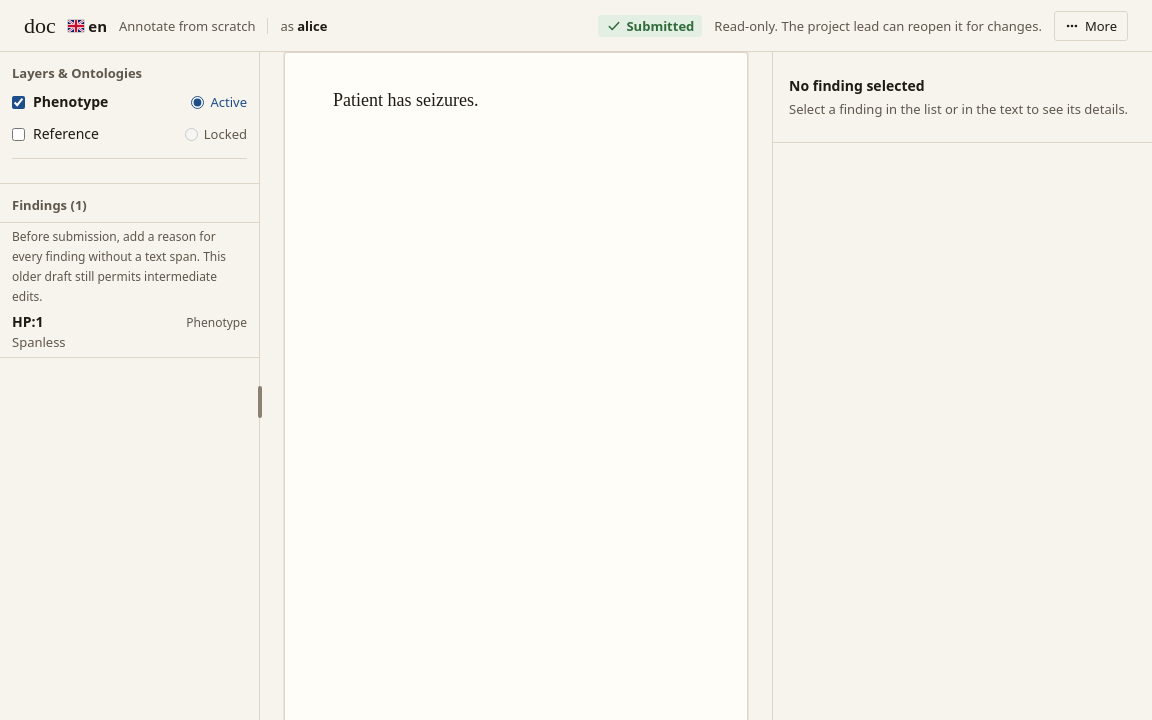
offers ontology search for inspection without allowing a submitted annotation to change
This screenshot has width=1152, height=720.
What coordinates should you click on to do the following:
click the button with class "doc-item"
I would click on:
 (130, 333)
Its box is [0,307,259,358].
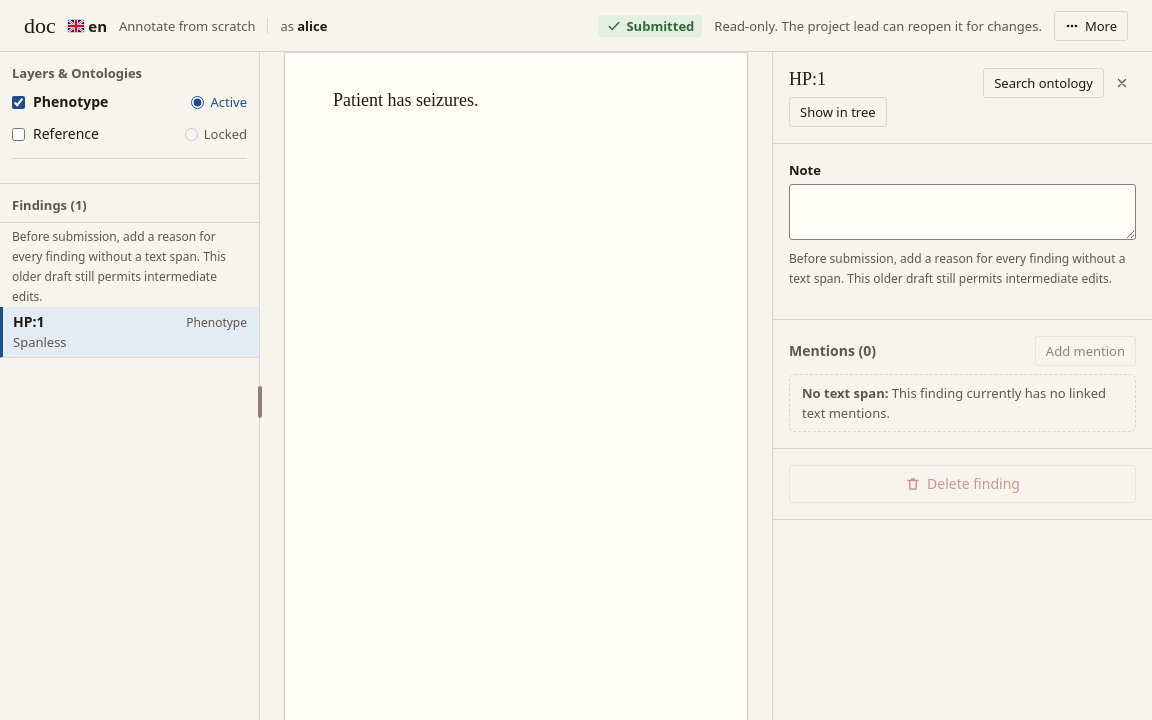
What coordinates should you click on to do the following:
click the button "Search ontology"
I would click on:
 (1044, 83)
Its box is [983,68,1104,98].
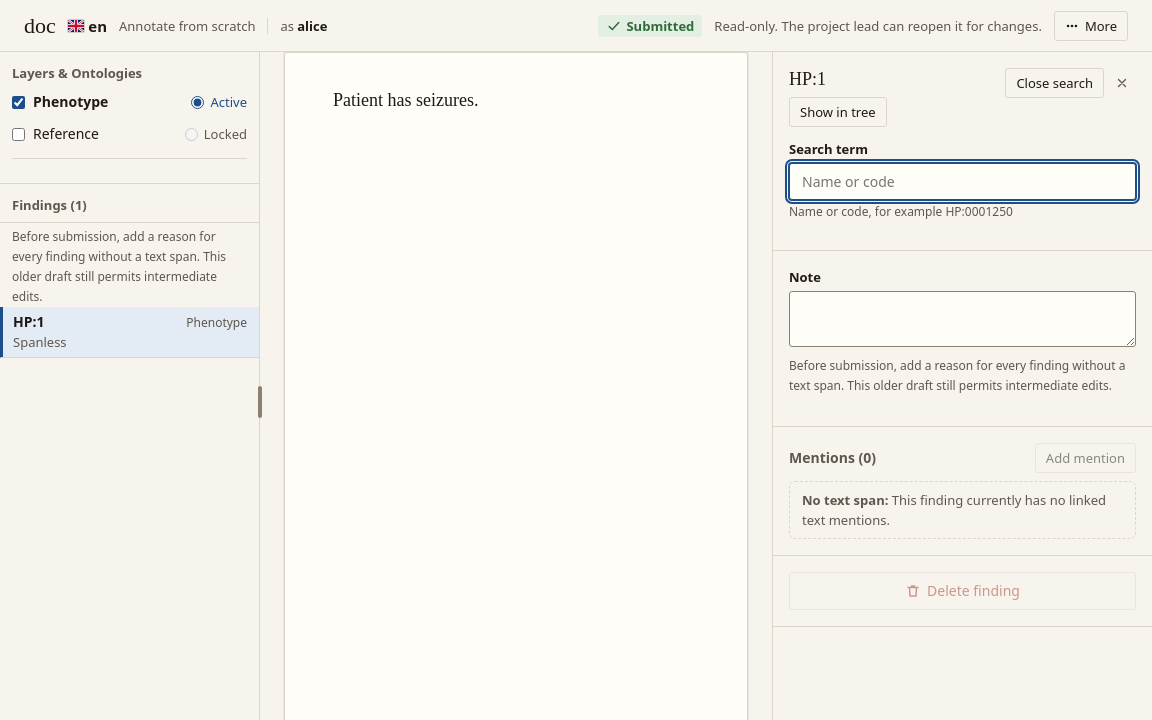
Check: the dropdown labelled "Search term" is shown, box [789,163,1136,200]
